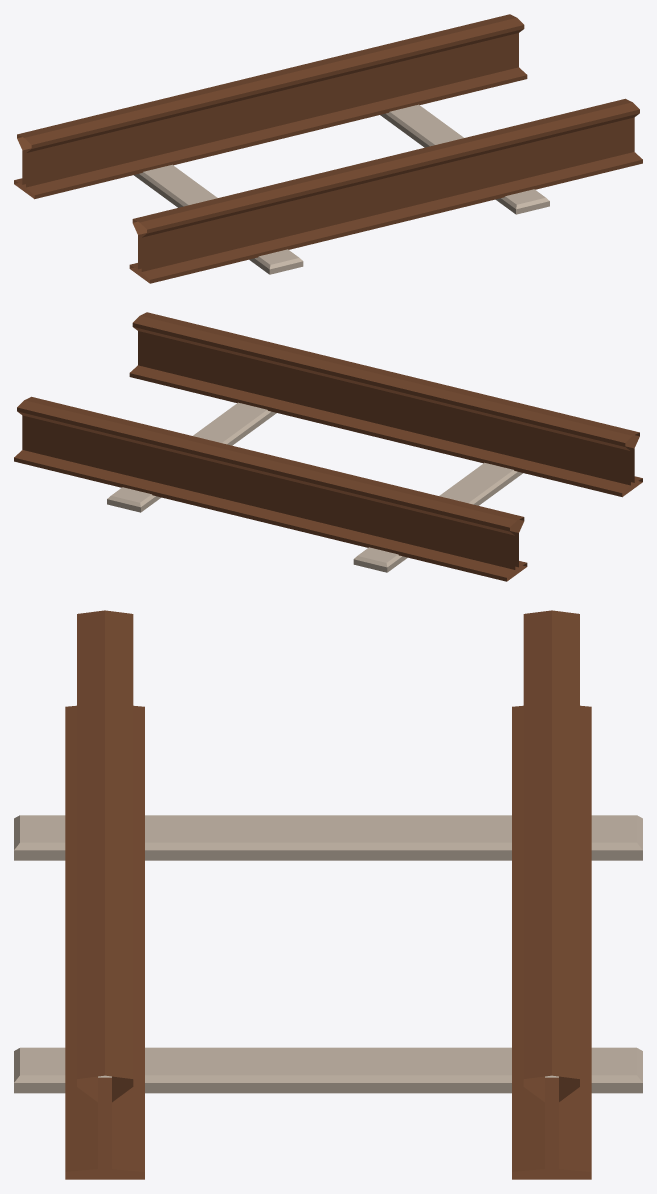
File: StrightTrack_V1.fbx
3 views of the same model, one above another, from view 1: azimuth 30°, elevation 25°; view 2: azimuth 150°, elevation 25°; view 3: azimuth 270°, elevation 25° (orthographic). The views are drawn at different scales.
Visible parts, largest first — view 1: Rail_Stright; view 2: Rail_Stright; view 3: Rail_Stright.
Part boxes in pixels (box(x1,y1,x2,y2)): Rail_Stright: box(14, 14, 642, 283); Rail_Stright: box(14, 312, 642, 581); Rail_Stright: box(14, 610, 642, 1179).
Bounding box in the file's own units: 200 × 23.67 × 114.
